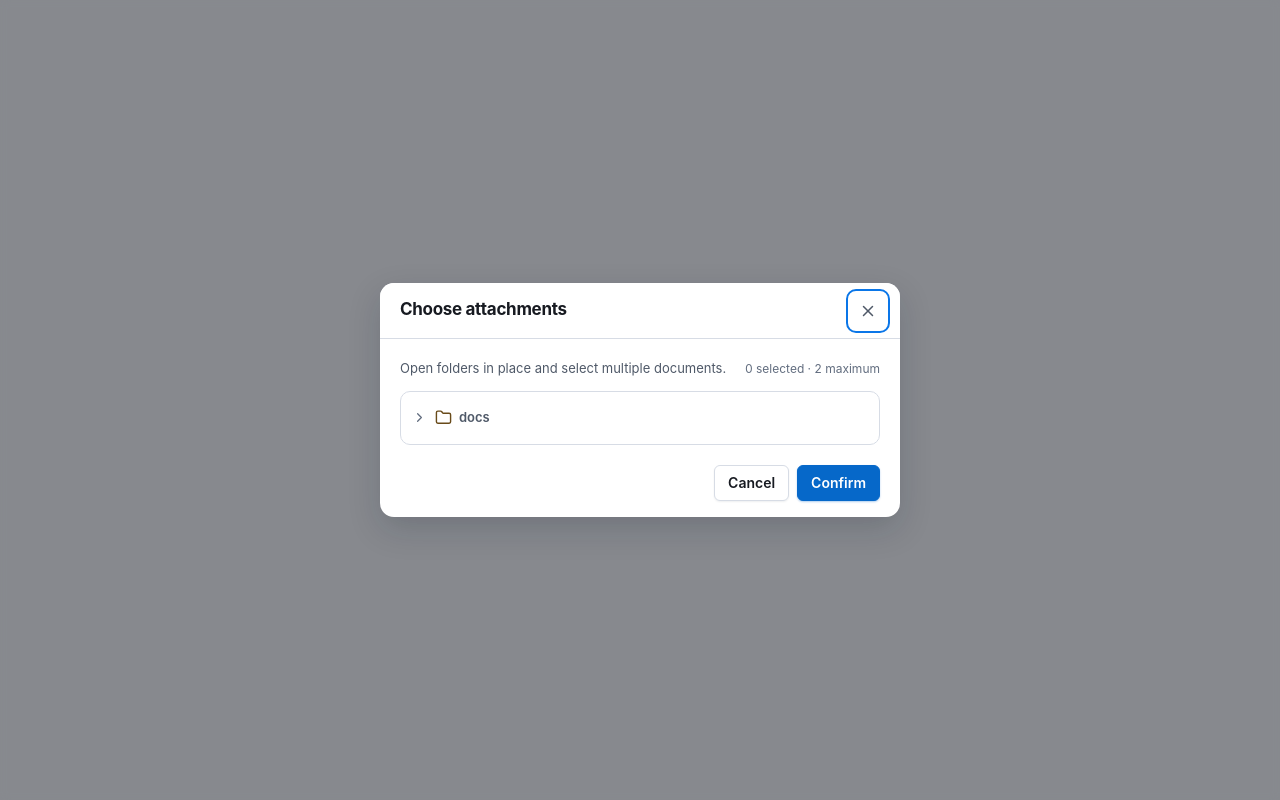
Scenario: AttachmentPicker › keeps a failed child folder in context and distinguishes retry from an empty folder
Click the list item "docs" at x=474, y=417, box [405,396,875,440]
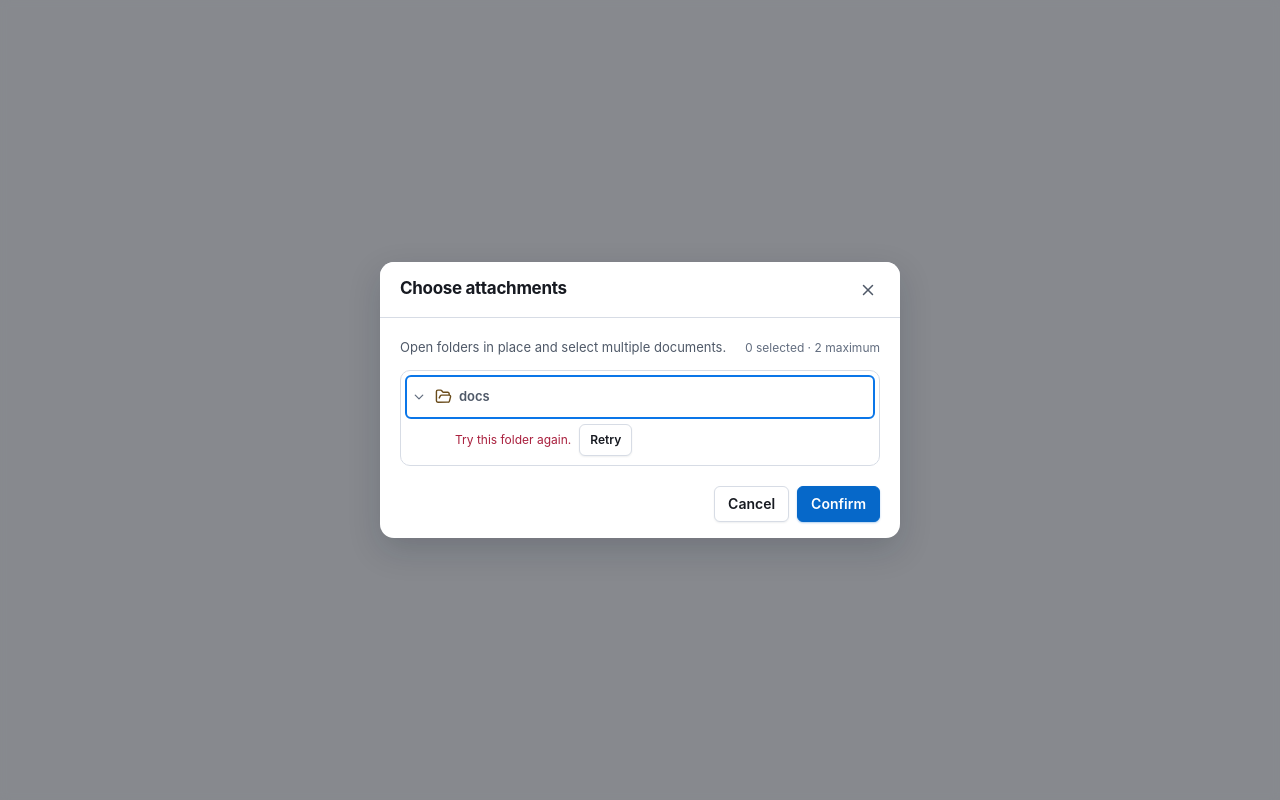
Check: the message shows "Try this folder again.", box [455,432,571,447]
Check: the list item "docs" is expanded, box [405,375,875,419]
Click the button "Retry" at x=606, y=440, box [579,424,632,456]
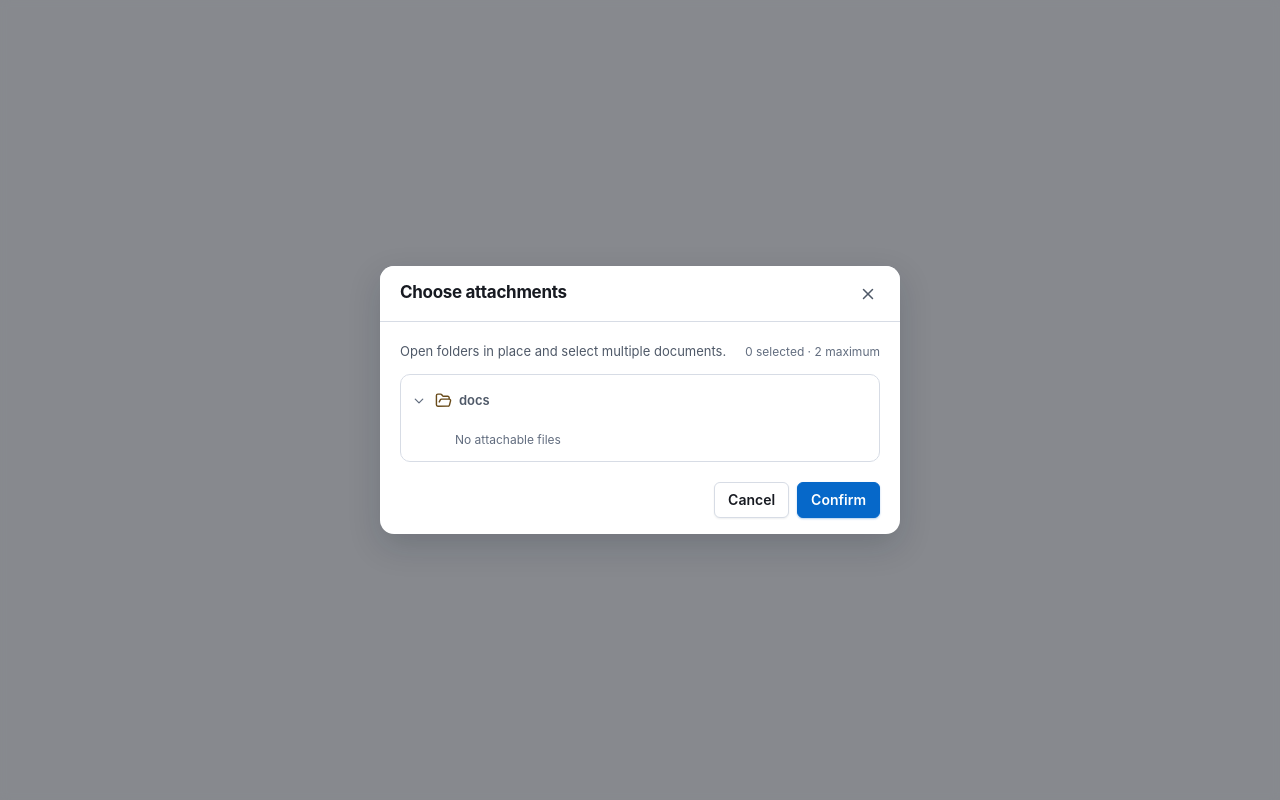
Check: the text "No attachable files" is shown, box [455,432,561,447]
